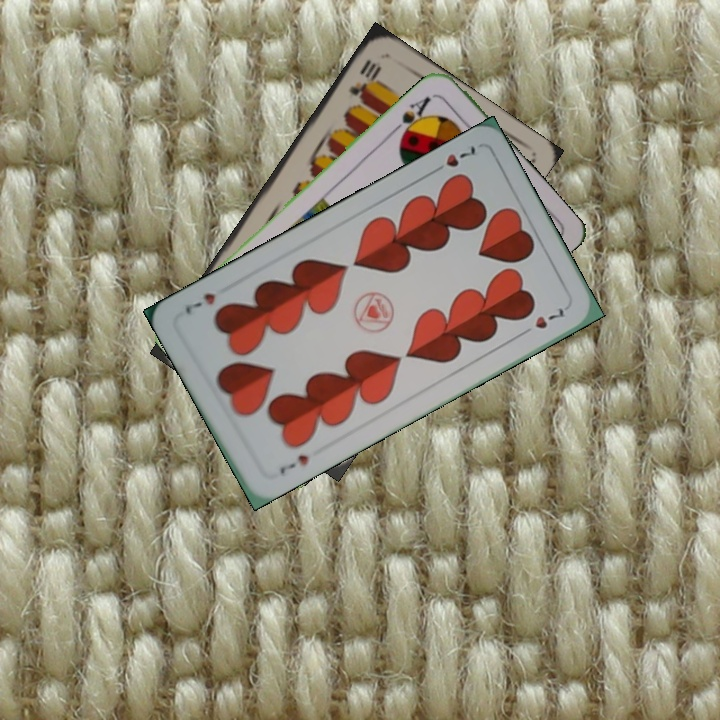E10: (345, 55, 385, 110)
H7: (427, 140, 481, 177), (276, 450, 311, 477)
SA: (389, 92, 434, 142)
